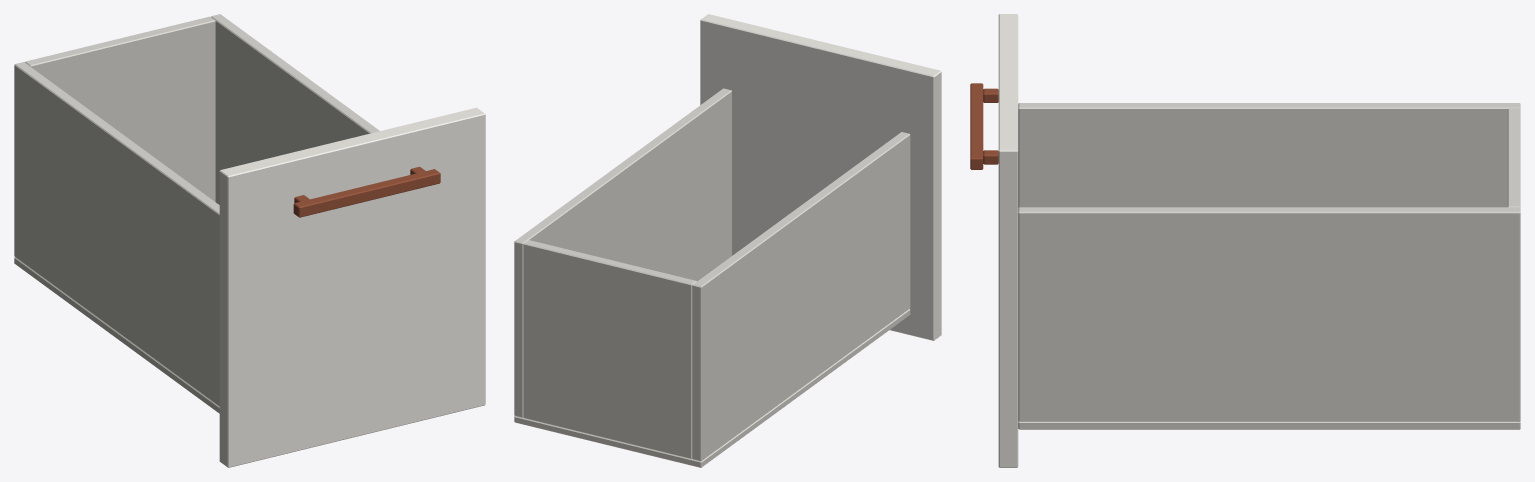
File: kitchen_run_appliances_b5_bottom_drawer.glb
3 renders of one model, left to right at view 1: azimuth 30°, elevation 25°; view 2: azimuth 150°, elevation 25°; view 3: azimuth 270°, elevation 25°, orthographic. The views are drawn at different scales.
Parts seen in each view (by area): view 1: kitchen_run_appliances_b5_bottom_drawer; view 2: kitchen_run_appliances_b5_bottom_drawer; view 3: kitchen_run_appliances_b5_bottom_drawer.
Part boxes in pixels (bbox=[...]): kitchen_run_appliances_b5_bottom_drawer: bbox=[14, 14, 485, 467]; kitchen_run_appliances_b5_bottom_drawer: bbox=[514, 14, 941, 467]; kitchen_run_appliances_b5_bottom_drawer: bbox=[970, 14, 1520, 467].
Bounding box in the file's own units: 0.297 × 0.321 × 0.504.
